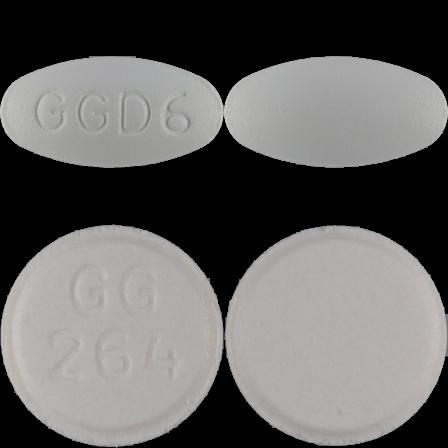70786-1496: (0, 0, 224, 224)
